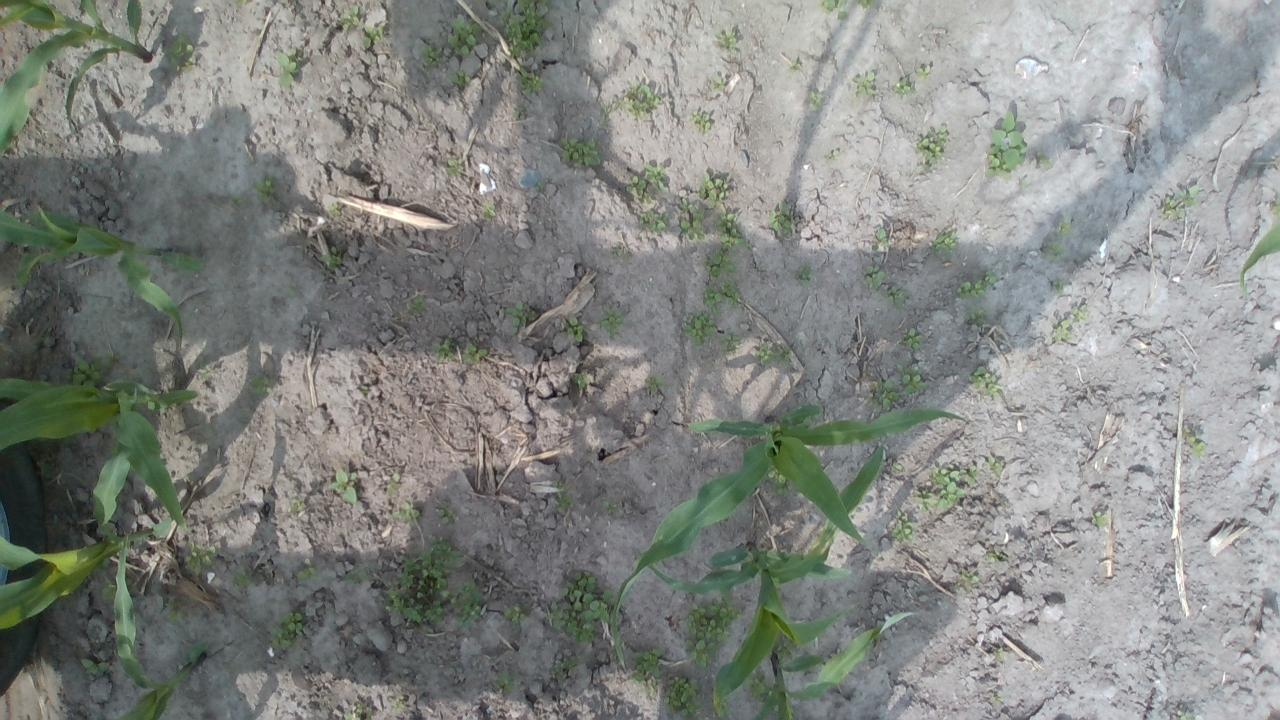Maize: (604, 402, 966, 673), (648, 441, 886, 720), (0, 374, 200, 535), (0, 195, 206, 347), (0, 0, 151, 160), (0, 518, 174, 631), (104, 531, 205, 720), (748, 610, 912, 720), (1239, 218, 1280, 302)
Weeds: (380, 536, 461, 624), (545, 570, 612, 644), (682, 592, 742, 670), (984, 111, 1028, 181), (498, 0, 549, 58), (602, 82, 662, 121), (931, 463, 976, 510), (740, 667, 780, 717), (663, 674, 704, 720), (915, 123, 950, 172), (446, 16, 484, 58), (69, 352, 112, 388), (716, 211, 753, 252), (162, 32, 198, 74), (270, 610, 306, 650), (559, 136, 603, 168), (1162, 184, 1200, 220), (704, 280, 743, 315), (954, 270, 999, 300), (682, 310, 718, 345), (452, 582, 482, 624), (698, 171, 732, 207), (628, 647, 662, 682), (274, 47, 302, 89), (328, 468, 359, 505), (506, 299, 536, 336), (896, 362, 929, 395), (968, 365, 1001, 398), (768, 200, 798, 236), (184, 541, 214, 576), (702, 250, 736, 280), (754, 341, 792, 367), (867, 378, 899, 408), (765, 465, 793, 498), (516, 66, 546, 96), (596, 307, 624, 338), (926, 229, 958, 256), (891, 509, 916, 543), (681, 209, 708, 240), (626, 174, 652, 204), (553, 656, 583, 682), (638, 210, 670, 233), (859, 264, 885, 292), (814, 0, 848, 21), (392, 501, 420, 526), (1182, 427, 1206, 456), (254, 173, 277, 203), (431, 336, 455, 364), (850, 71, 876, 96), (714, 28, 740, 52), (898, 328, 924, 352), (321, 245, 344, 272), (953, 570, 980, 592), (646, 162, 667, 190), (492, 668, 516, 692), (361, 24, 385, 48), (461, 342, 487, 364), (504, 602, 530, 624), (420, 44, 446, 66), (553, 480, 572, 510), (342, 700, 370, 720), (773, 637, 796, 661), (164, 602, 188, 625), (690, 110, 713, 134), (883, 284, 906, 308), (1052, 318, 1074, 342), (564, 316, 584, 342), (80, 659, 110, 676), (296, 559, 318, 582), (914, 487, 936, 510), (444, 156, 466, 178), (250, 374, 274, 394), (436, 500, 454, 526), (232, 566, 253, 588), (965, 305, 987, 326), (341, 6, 360, 30), (871, 228, 890, 252), (1044, 242, 1066, 262), (721, 332, 742, 352), (892, 75, 912, 96), (406, 294, 426, 314), (794, 261, 813, 282), (572, 372, 594, 390), (646, 374, 668, 392), (986, 456, 1004, 478), (1090, 510, 1112, 528), (100, 579, 116, 602), (984, 549, 1010, 563), (790, 415, 813, 430), (451, 70, 470, 88), (915, 63, 932, 83), (390, 694, 406, 715), (709, 75, 728, 92), (1072, 303, 1088, 323), (808, 90, 824, 110), (346, 570, 368, 584), (386, 473, 398, 496), (325, 202, 341, 219), (1036, 151, 1052, 168), (1056, 218, 1072, 235), (1051, 278, 1067, 294), (482, 202, 497, 218), (602, 500, 619, 514), (1176, 709, 1197, 720), (290, 498, 306, 512), (852, 0, 876, 9), (612, 248, 631, 259), (888, 462, 904, 474), (992, 692, 1004, 708), (286, 280, 298, 296), (146, 400, 160, 413), (197, 364, 210, 378), (993, 646, 1005, 661), (1270, 200, 1280, 218), (681, 196, 692, 212), (788, 60, 802, 72), (514, 106, 526, 118), (827, 149, 838, 161), (535, 182, 545, 192), (360, 384, 369, 394), (234, 0, 248, 5)
